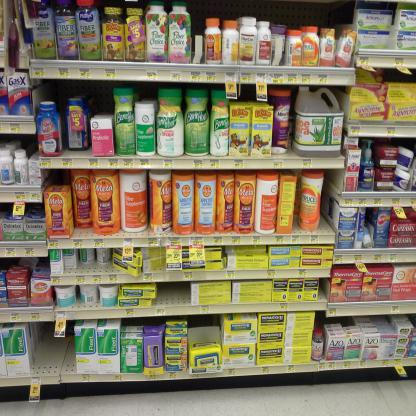Void: (33, 328, 76, 373), (189, 317, 222, 343), (44, 166, 77, 192), (90, 82, 113, 117), (156, 281, 190, 303), (326, 172, 338, 233)
